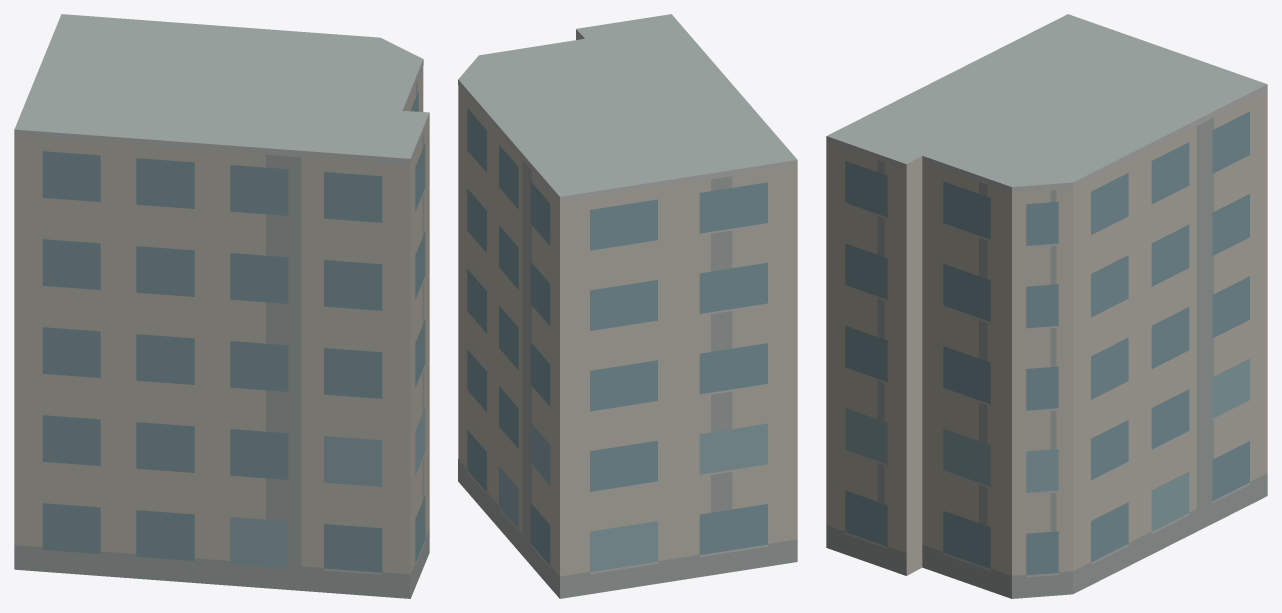
The model's file is survey-upis-32782576.glb.
The picture shows the model from 3 angles, left to right: view 1: azimuth 30°, elevation 25°; view 2: azimuth 150°, elevation 25°; view 3: azimuth 270°, elevation 25°; orthographic projection. The views are drawn at different scales.
Parts seen in each view (by area): view 1: survey-upis-32782576.tmp; view 2: survey-upis-32782576.tmp; view 3: survey-upis-32782576.tmp.
Part boxes in pixels (x1,y1,x2,y2): survey-upis-32782576.tmp: [14, 14, 429, 598]; survey-upis-32782576.tmp: [458, 14, 797, 598]; survey-upis-32782576.tmp: [826, 14, 1267, 598].
Bounding box in the file's own units: 14.61 × 16.2 × 15.73.
